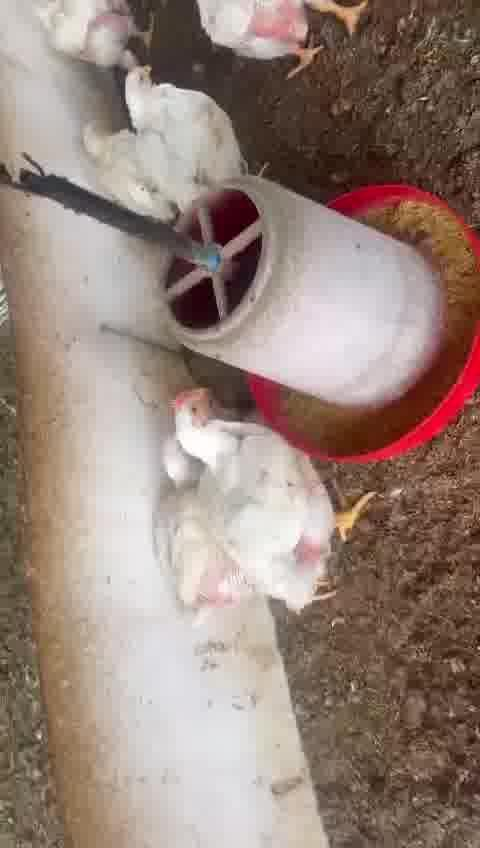Normal: (167, 385, 374, 617), (80, 62, 270, 185), (169, 447, 277, 591), (195, 4, 371, 72), (35, 4, 161, 73), (79, 130, 193, 197)
